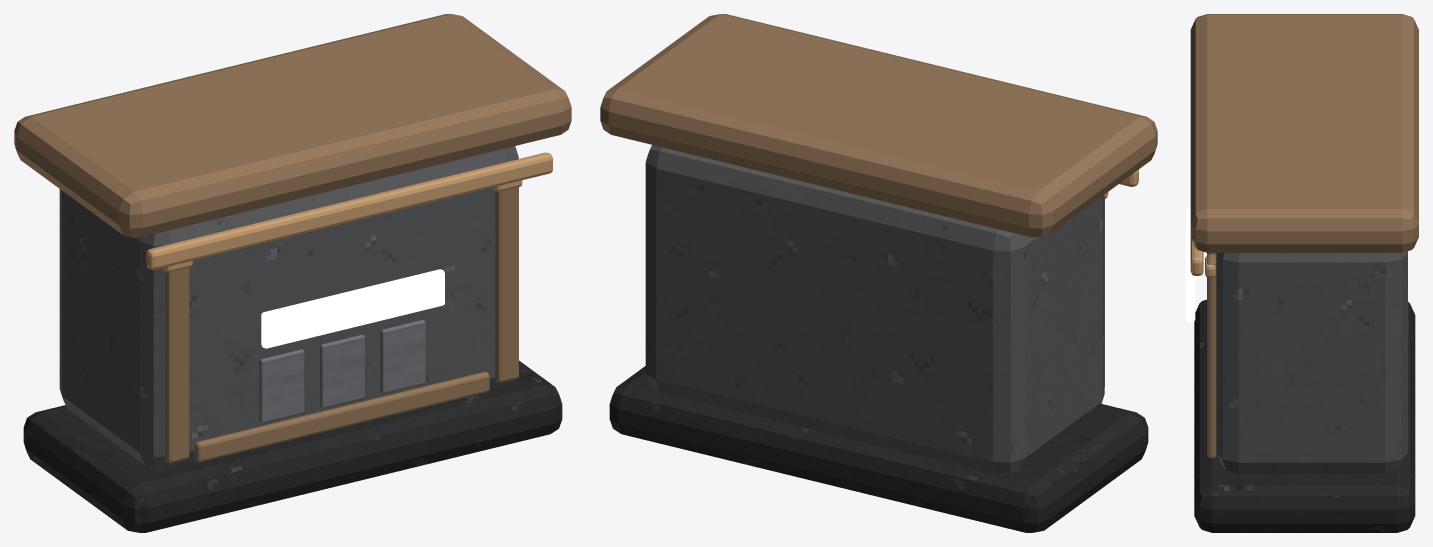
File: decor_chapel_plinth.glb
The picture shows the model from 3 angles, left to right: view 1: azimuth 30°, elevation 25°; view 2: azimuth 150°, elevation 25°; view 3: azimuth 270°, elevation 25°; orthographic projection. The views are drawn at different scales.
Parts seen in each view (by area): view 1: DECOR_CHAPEL_PLINTH__Wood_Top, DECOR_CHAPEL_PLINTH__Body, DECOR_CHAPEL_PLINTH__Base, DECOR_CHAPEL_PLINTH__Brass_Trim, DECOR_CHAPEL_PLINTH__Memorial_Light, DECOR_CHAPEL_PLINTH__Lower_Inlay, DECOR_CHAPEL_PLINTH__Corner_Inlay_0, DECOR_CHAPEL_PLINTH__Corner_Inlay_1, DECOR_CHAPEL_PLINTH__Recessed_Plaque_0, DECOR_CHAPEL_PLINTH__Recessed_Plaque_2, DECOR_CHAPEL_PLINTH__Recessed_Plaque_1; view 2: DECOR_CHAPEL_PLINTH__Body, DECOR_CHAPEL_PLINTH__Wood_Top, DECOR_CHAPEL_PLINTH__Base; view 3: DECOR_CHAPEL_PLINTH__Wood_Top, DECOR_CHAPEL_PLINTH__Body, DECOR_CHAPEL_PLINTH__Base, DECOR_CHAPEL_PLINTH__Corner_Inlay_1, DECOR_CHAPEL_PLINTH__Memorial_Light, DECOR_CHAPEL_PLINTH__Brass_Trim.
Part boxes in pixels (bbox=[...]): DECOR_CHAPEL_PLINTH__Wood_Top: bbox=[14, 14, 571, 237]; DECOR_CHAPEL_PLINTH__Body: bbox=[59, 146, 518, 468]; DECOR_CHAPEL_PLINTH__Base: bbox=[23, 360, 562, 532]; DECOR_CHAPEL_PLINTH__Brass_Trim: bbox=[146, 152, 552, 269]; DECOR_CHAPEL_PLINTH__Memorial_Light: bbox=[261, 269, 444, 348]; DECOR_CHAPEL_PLINTH__Lower_Inlay: bbox=[194, 372, 489, 462]; DECOR_CHAPEL_PLINTH__Corner_Inlay_0: bbox=[165, 268, 189, 463]; DECOR_CHAPEL_PLINTH__Corner_Inlay_1: bbox=[495, 187, 518, 382]; DECOR_CHAPEL_PLINTH__Recessed_Plaque_0: bbox=[259, 349, 304, 423]; DECOR_CHAPEL_PLINTH__Recessed_Plaque_2: bbox=[380, 320, 425, 393]; DECOR_CHAPEL_PLINTH__Recessed_Plaque_1: bbox=[320, 334, 364, 408]; DECOR_CHAPEL_PLINTH__Body: bbox=[645, 145, 1104, 474]; DECOR_CHAPEL_PLINTH__Wood_Top: bbox=[600, 14, 1157, 237]; DECOR_CHAPEL_PLINTH__Base: bbox=[609, 366, 1148, 532]; DECOR_CHAPEL_PLINTH__Wood_Top: bbox=[1190, 14, 1418, 252]; DECOR_CHAPEL_PLINTH__Body: bbox=[1216, 251, 1407, 473]; DECOR_CHAPEL_PLINTH__Base: bbox=[1194, 299, 1415, 532]; DECOR_CHAPEL_PLINTH__Corner_Inlay_1: bbox=[1207, 254, 1216, 458]; DECOR_CHAPEL_PLINTH__Memorial_Light: bbox=[1186, 208, 1195, 322]; DECOR_CHAPEL_PLINTH__Brass_Trim: bbox=[1190, 238, 1203, 275].
Size of the model in its own units: 1.34 by 0.98 by 0.6325.
6 materials, 3 textured.
